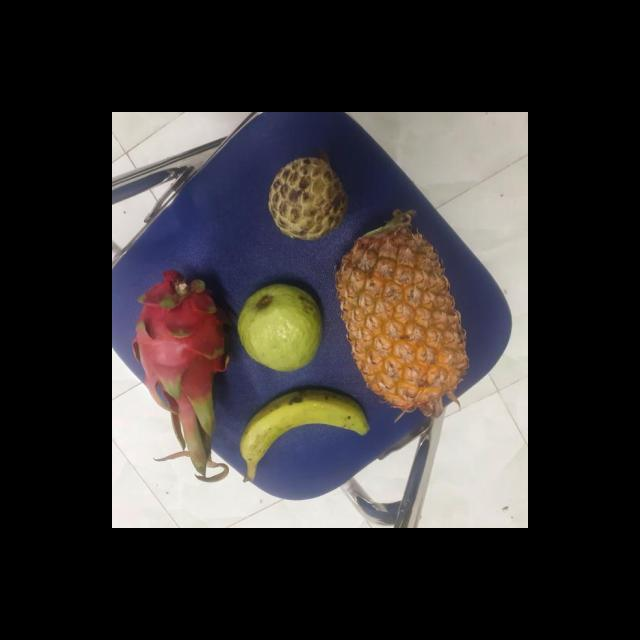Sakya fruit: (268, 157, 352, 243)
banana: (242, 389, 370, 472)
guava: (237, 286, 328, 370)
pineapple: (340, 218, 473, 416)
pitaya: (136, 276, 238, 416)
